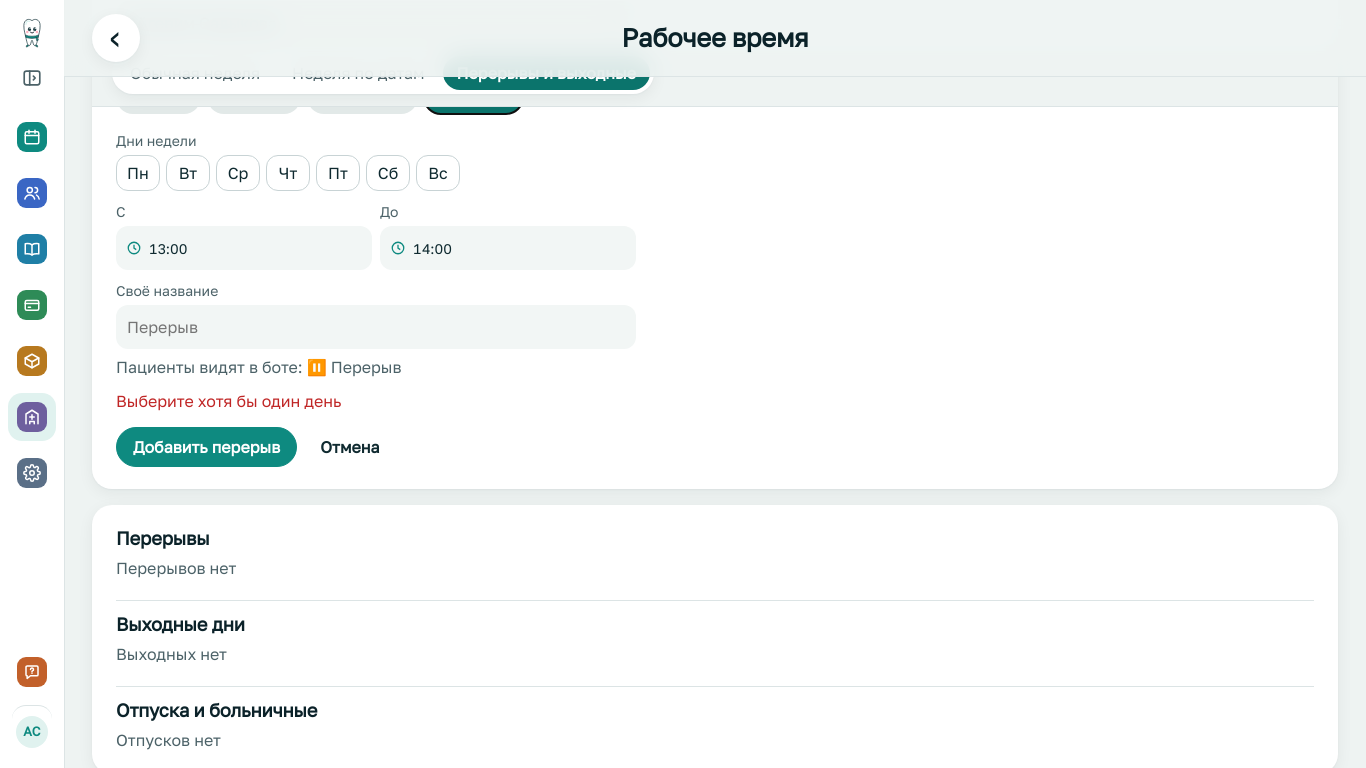
Test: «＋ Перерыв»: «Другое» без названия — «Перерыв»; без дней — подсказка, запроса нет
This screenshot has width=1366, height=768.
Earlier steps of the test are not shown.
(page scrolled)
Click the button with aria-label "Среда" at (238, 173), box [216,155,260,191]
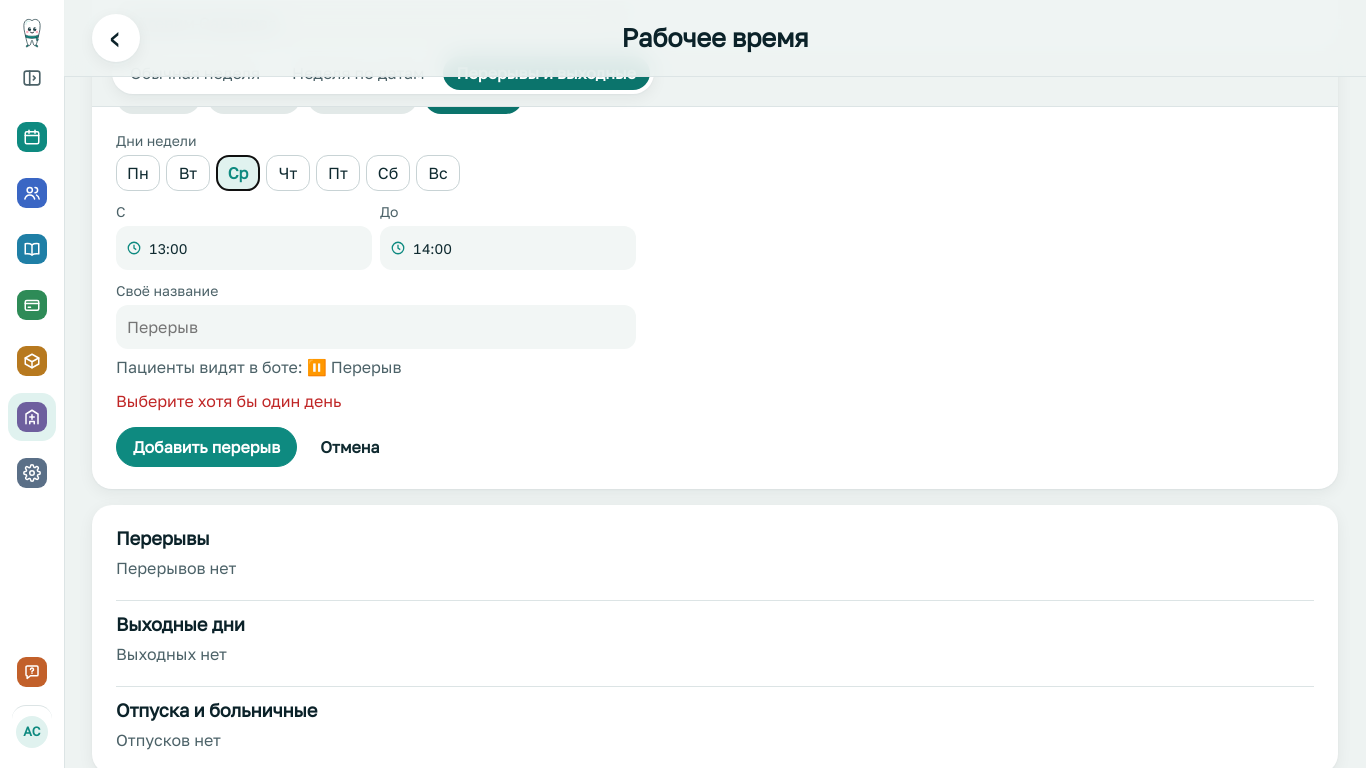
Click the button "Добавить перерыв" at (207, 447), box [116,427,297,467]
(page scrolled)
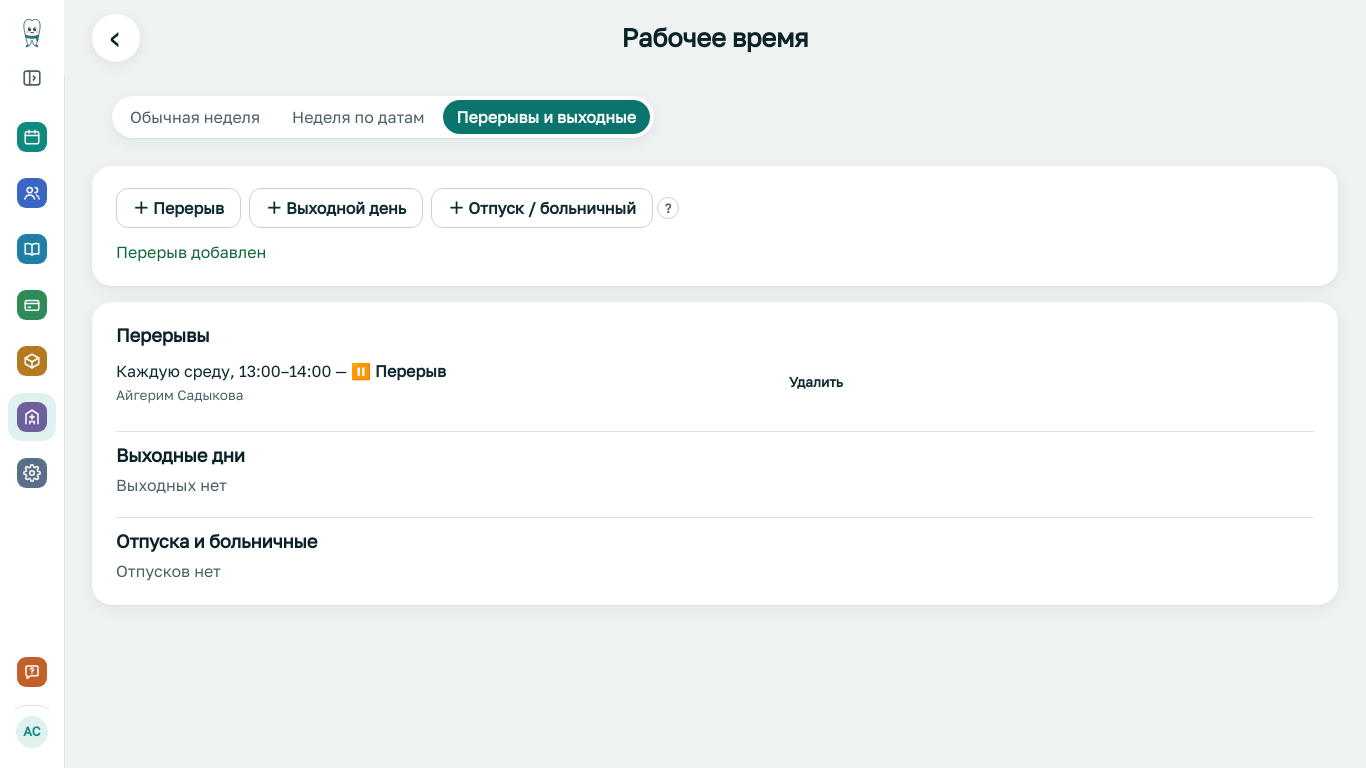
Now the text "Перерыв добавлен" is shown, box [116,242,266,262]
